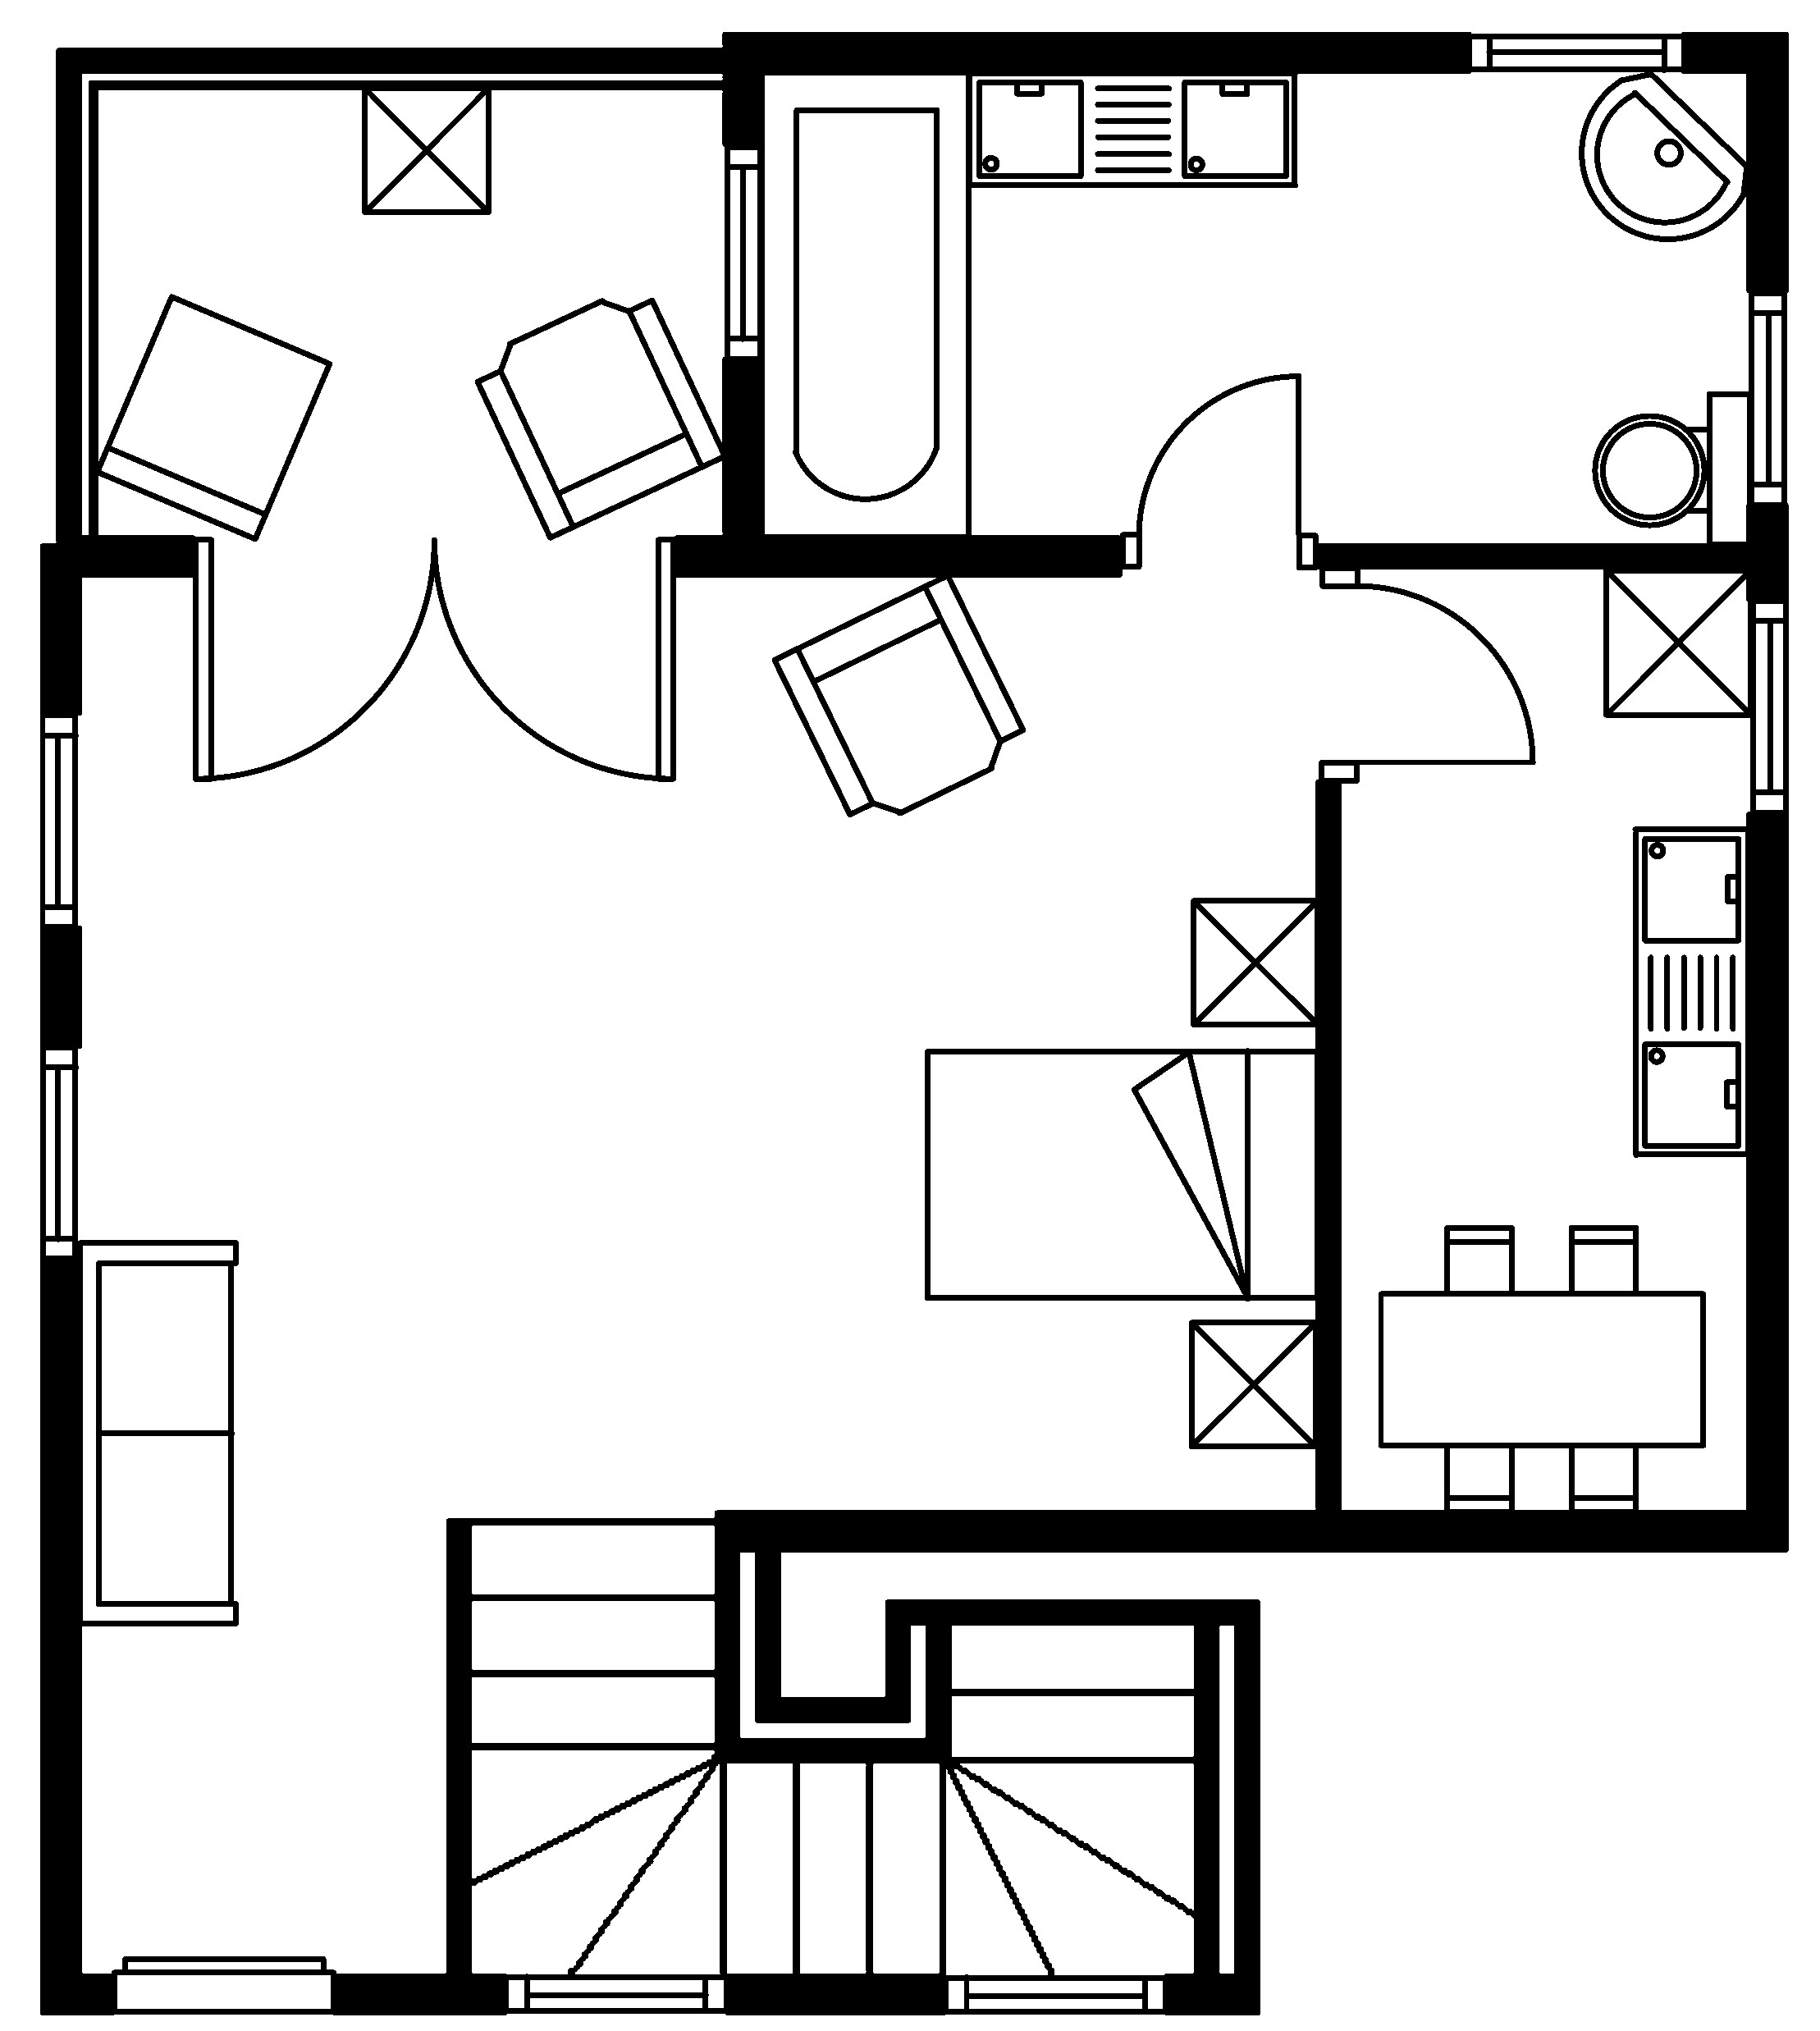armchair: (769, 571, 1026, 817), (473, 297, 727, 541)
bed: (922, 1047, 1321, 1302)
coffee_table: (1602, 566, 1753, 719), (1186, 1318, 1319, 1449), (1189, 896, 1321, 1028), (360, 84, 492, 214)
dining_table: (1376, 1223, 1706, 1516)
large_sink: (1592, 388, 1753, 548)
large_sofa: (76, 1239, 239, 1627)
small_sink: (1578, 70, 1750, 241)
small_sofa: (93, 292, 332, 543)
tub: (757, 69, 971, 539)
twin_sink: (1630, 824, 1750, 1158), (964, 69, 1298, 188)
